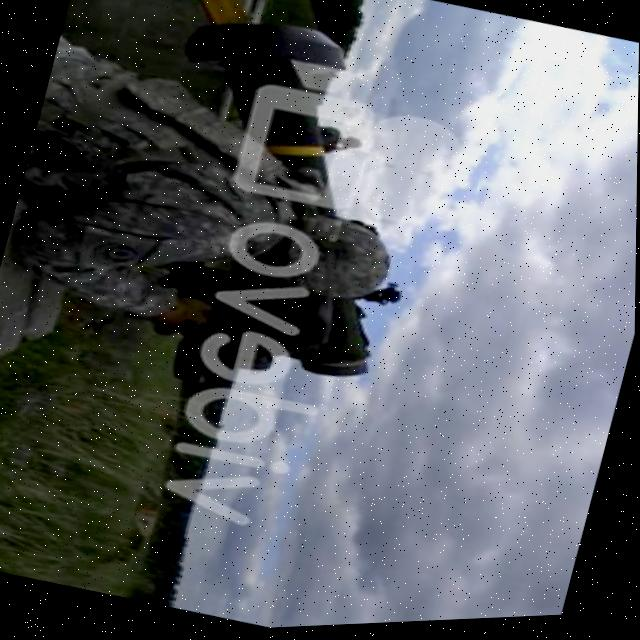rocket: (154, 4, 382, 226)
